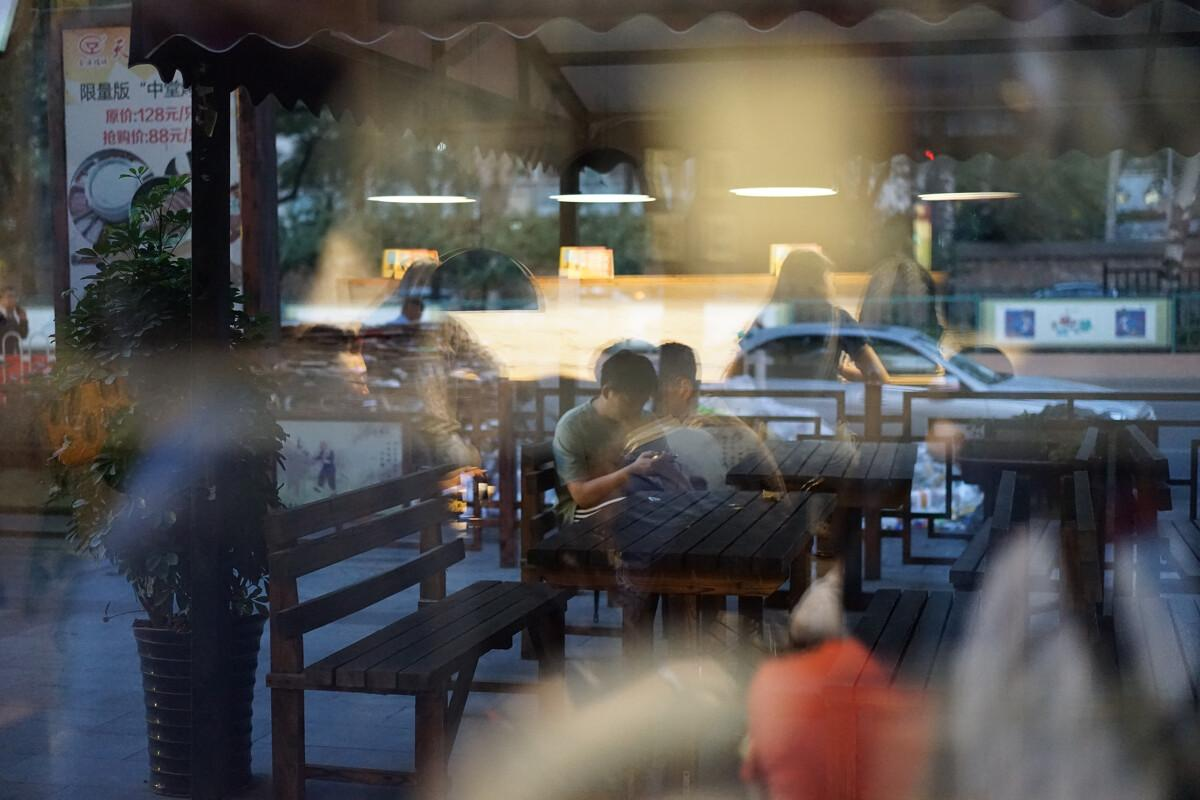face: (399, 258, 435, 331), (662, 374, 697, 417), (613, 387, 649, 426)
specialarea: (417, 279, 430, 291), (629, 398, 646, 406), (667, 382, 681, 391)
